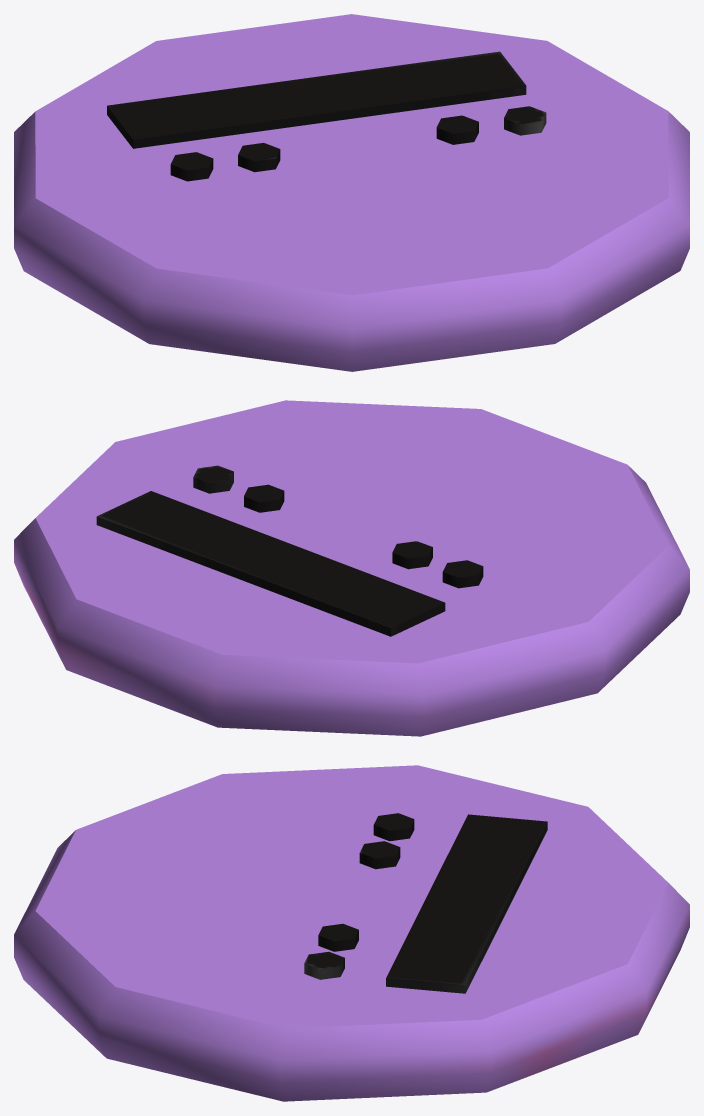
Rendered from CD player exp resend.fbx.
3 views of the same model, one above another, from view 1: azimuth 30°, elevation 25°; view 2: azimuth 150°, elevation 25°; view 3: azimuth 270°, elevation 25° (orthographic). The views are drawn at different scales.
Parts seen in each view (by area): view 1: Cylinder001; view 2: Cylinder001; view 3: Cylinder001.
Part boxes in pixels (x1,y1,x2,y2): Cylinder001: (14, 14, 689, 371); Cylinder001: (14, 400, 689, 736); Cylinder001: (14, 765, 689, 1101).
Bounding box in the file's own units: 6.42 × 0.8386 × 6.53.
